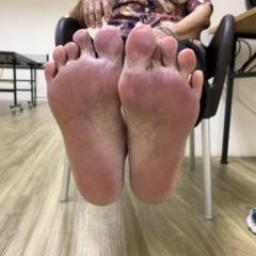Plantar View -Both Feet-: (26, 10, 220, 224)
